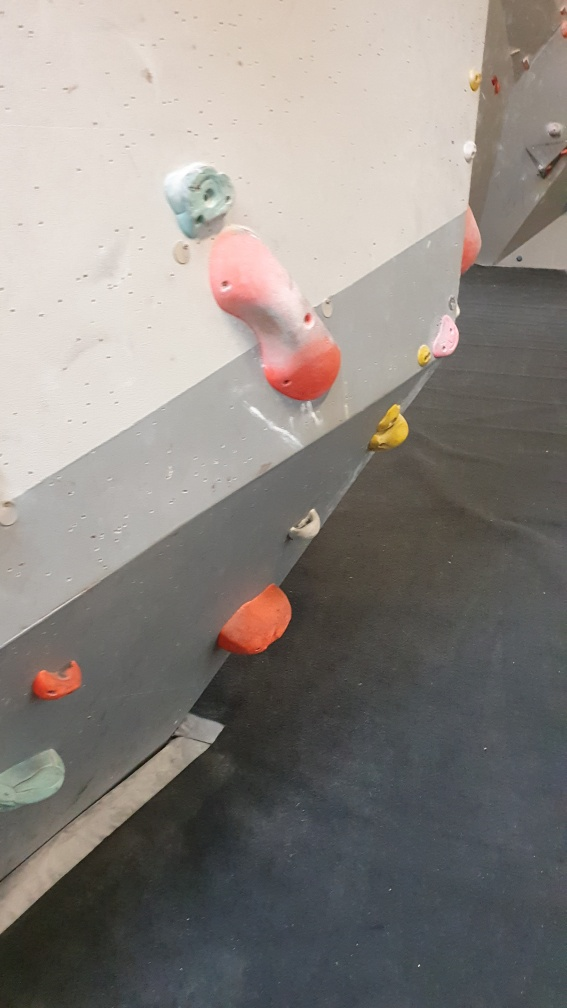Hand Start: (171, 237, 195, 267), (1, 499, 19, 531), (321, 297, 337, 319)
Jug: (283, 508, 326, 540)
Pinch: (206, 225, 341, 398)
